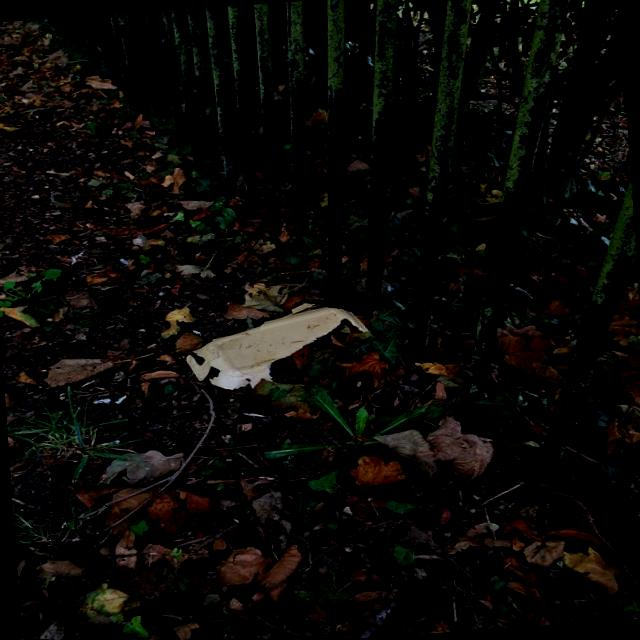Trash: (180, 300, 373, 391)
